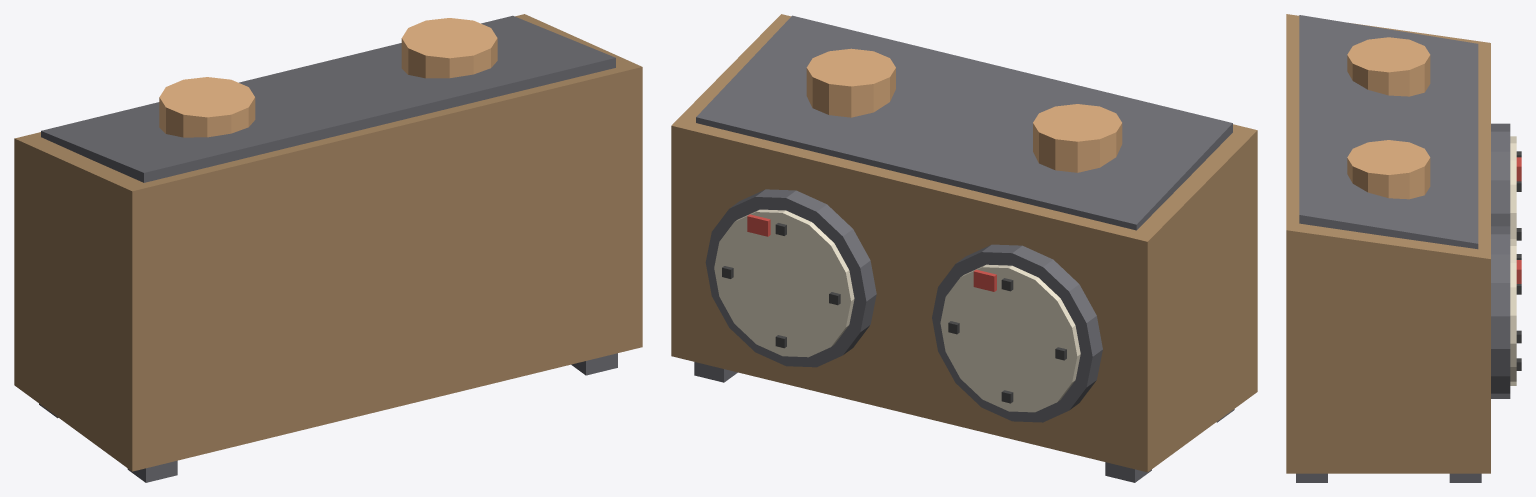
Rendered from chess_clock.glb.
The picture shows the model from 3 angles, left to right: view 1: azimuth 30°, elevation 25°; view 2: azimuth 150°, elevation 25°; view 3: azimuth 270°, elevation 25°; orthographic projection. The views are drawn at different scales.
Parts seen in each view (by area): view 1: ChessClock; view 2: ChessClock; view 3: ChessClock.
Boxes of the visible parts, box(x1,y1,x2,y2) form: ChessClock: box(14, 14, 642, 482); ChessClock: box(671, 14, 1257, 482); ChessClock: box(1286, 14, 1521, 482).
Size of the model in its own units: 0.16 by 0.0955 by 0.0735.
